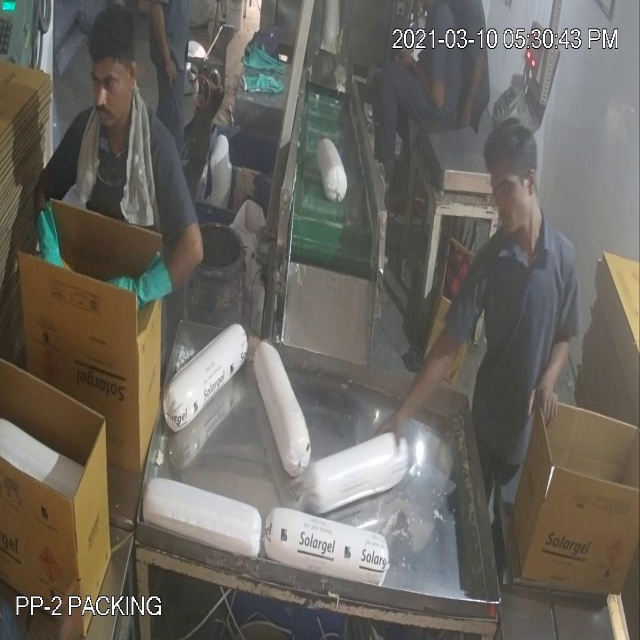Sin_guantes: (374, 302, 467, 451), (518, 309, 585, 439), (144, 1, 182, 98)
